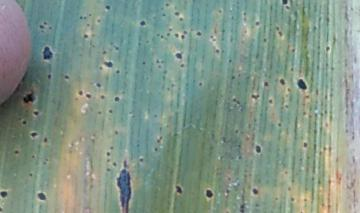tarspot: (116, 161, 132, 213), (295, 77, 308, 91), (22, 93, 36, 104), (43, 46, 52, 60), (36, 191, 47, 202), (174, 183, 183, 194), (103, 60, 114, 68), (254, 143, 262, 154), (174, 51, 183, 60), (205, 188, 213, 198), (278, 77, 286, 86), (251, 93, 260, 101), (32, 109, 40, 117), (94, 81, 102, 89), (84, 91, 92, 99), (232, 96, 240, 104), (1, 190, 8, 199), (113, 96, 120, 104), (156, 135, 163, 143), (29, 132, 38, 138), (46, 72, 52, 81), (302, 140, 308, 149), (240, 204, 246, 213), (140, 20, 147, 27), (195, 30, 202, 37), (254, 19, 261, 26), (112, 129, 119, 136), (105, 150, 112, 157), (233, 128, 240, 135), (277, 30, 283, 38), (230, 73, 236, 81), (263, 80, 269, 88), (13, 149, 20, 155), (30, 153, 36, 160), (105, 5, 112, 11), (97, 65, 104, 71), (77, 90, 84, 96), (181, 29, 188, 35), (197, 81, 204, 87), (214, 47, 220, 54), (284, 4, 291, 10), (290, 47, 296, 54), (325, 45, 331, 52), (286, 86, 292, 93), (252, 188, 258, 195), (242, 9, 247, 17), (64, 74, 70, 80), (83, 33, 89, 39), (85, 22, 91, 28), (102, 49, 108, 55), (100, 94, 106, 100), (97, 109, 103, 115), (217, 9, 223, 15), (227, 58, 233, 64), (267, 98, 273, 104), (112, 161, 118, 167), (22, 119, 27, 126), (28, 171, 33, 178), (42, 21, 49, 26), (167, 27, 174, 32), (174, 32, 179, 39), (262, 36, 267, 43), (289, 66, 294, 73), (277, 121, 282, 128), (225, 187, 230, 194), (302, 109, 307, 116), (43, 137, 48, 143), (48, 25, 53, 31), (87, 11, 92, 17), (96, 18, 102, 23), (115, 69, 120, 75), (114, 47, 120, 52), (141, 61, 147, 66), (165, 32, 171, 37), (155, 33, 161, 38), (174, 11, 179, 17), (209, 33, 214, 39), (275, 25, 280, 31), (105, 167, 111, 172), (139, 157, 144, 163), (153, 147, 159, 152), (284, 104, 289, 110), (290, 196, 295, 202), (283, 170, 289, 175), (38, 25, 45, 29), (281, 1, 288, 5), (165, 3, 170, 8), (108, 109, 113, 114), (180, 63, 185, 68), (179, 17, 184, 22), (180, 35, 185, 40), (106, 158, 111, 163), (79, 15, 83, 21), (83, 15, 87, 21), (156, 58, 160, 64), (162, 12, 166, 18), (305, 95, 311, 99), (275, 197, 279, 202), (161, 35, 164, 40), (1, 207, 3, 213), (238, 157, 242, 160)
